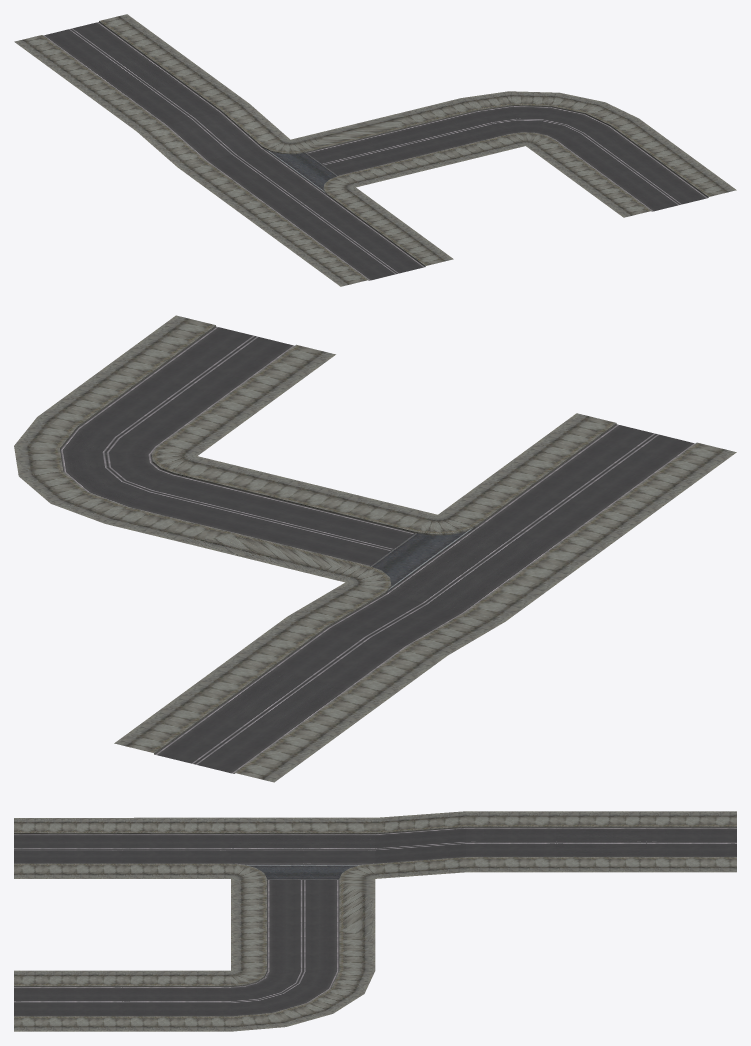
Rendered from cunte_roads57.obj.
3 renders of one model, top to bottom at view 1: azimuth 30°, elevation 25°; view 2: azimuth 150°, elevation 25°; view 3: azimuth 270°, elevation 25°, orthographic. The views are drawn at different scales.
Parts seen in each view (by area): view 1: cunte_roads57; view 2: cunte_roads57; view 3: cunte_roads57.
Part boxes in pixels (x1=…): cunte_roads57: x1=14, y1=14, x2=736, y2=286; cunte_roads57: x1=14, y1=315, x2=736, y2=782; cunte_roads57: x1=14, y1=811, x2=736, y2=1031.
Size of the model in its own units: 70 by 1.17 by 100.
